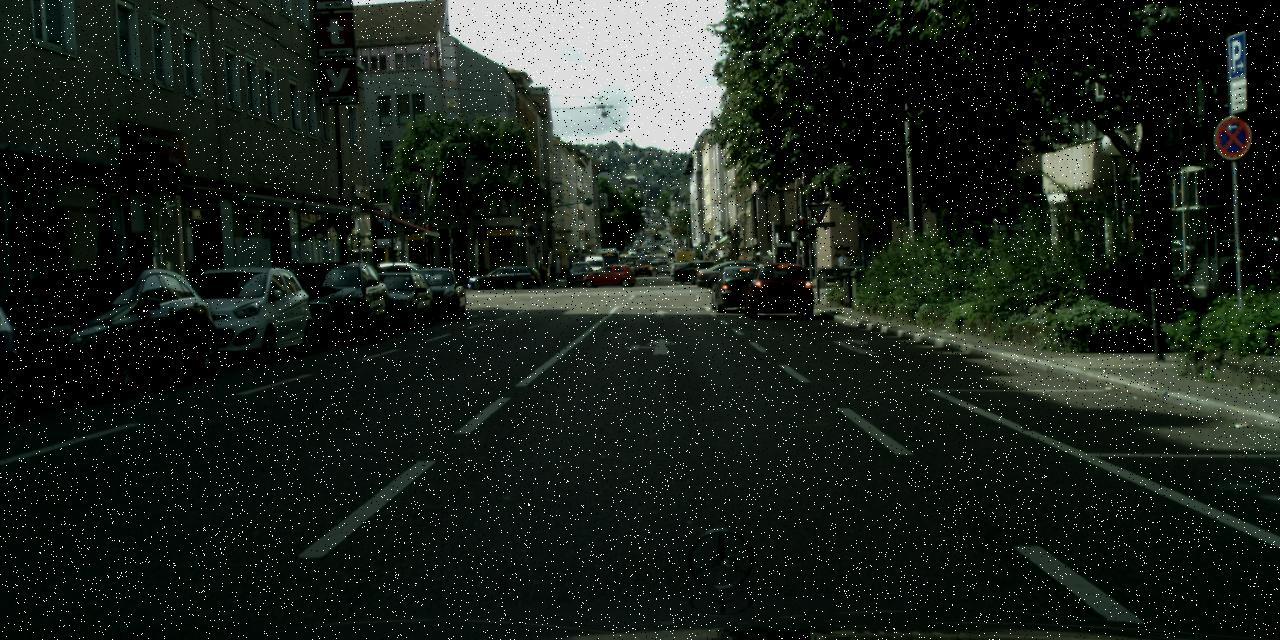ped: (288, 261, 311, 316), (836, 251, 848, 281), (538, 264, 546, 286), (548, 262, 556, 282), (560, 264, 566, 278)
